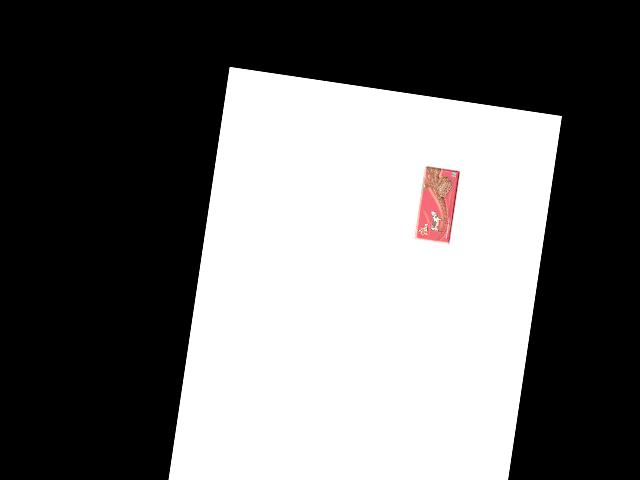chocolate: (408, 162, 454, 236)
